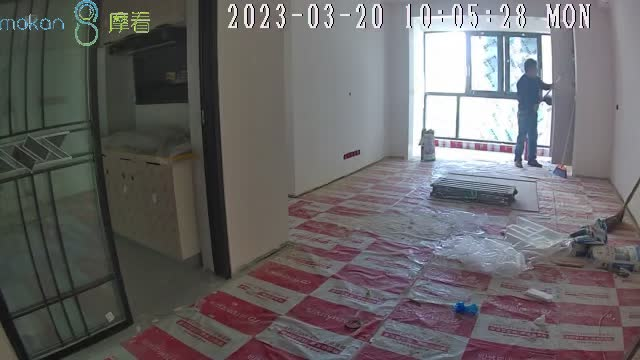people: (514, 59, 552, 169)
window: (421, 30, 552, 149)
